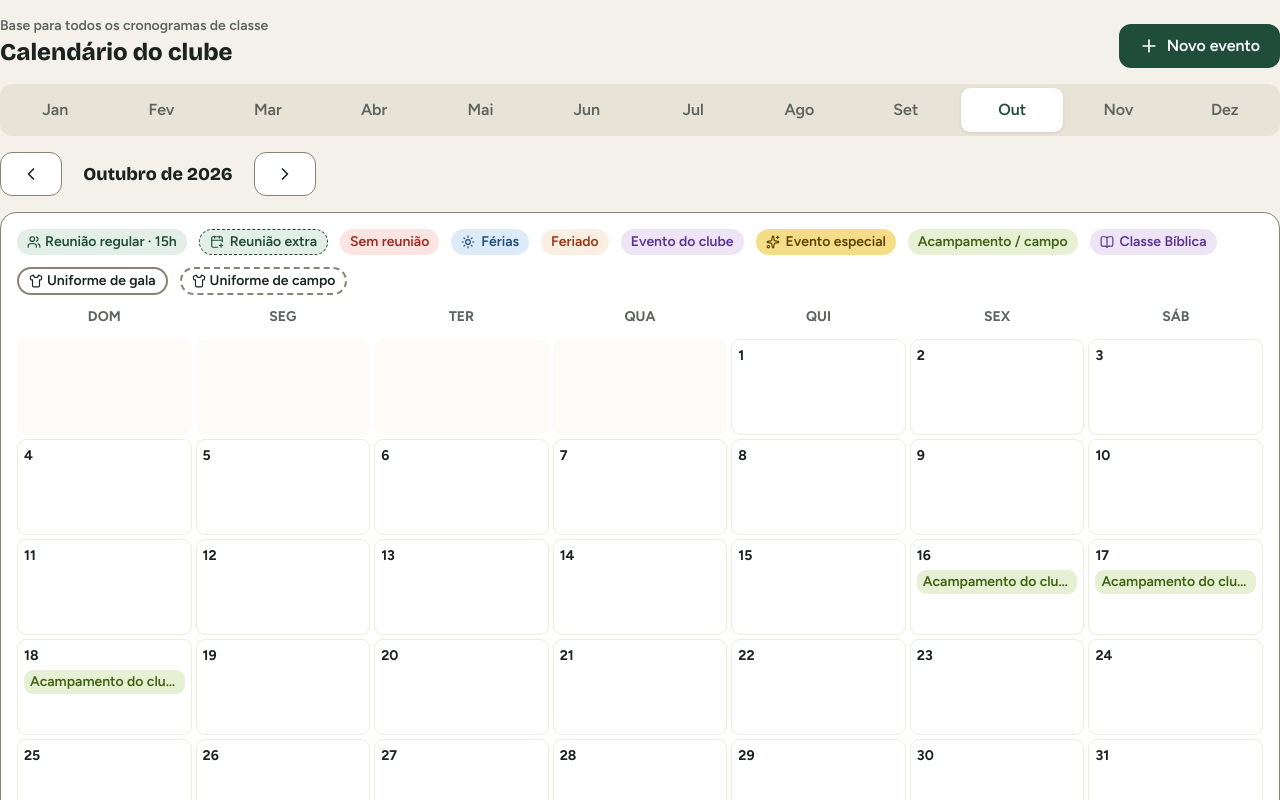
A6 · grade › as setas andam de mês em mês e viram o ano, pedindo o ano novo
Click the button named "Próximo mês" at (285, 174), box [254,152,316,196]
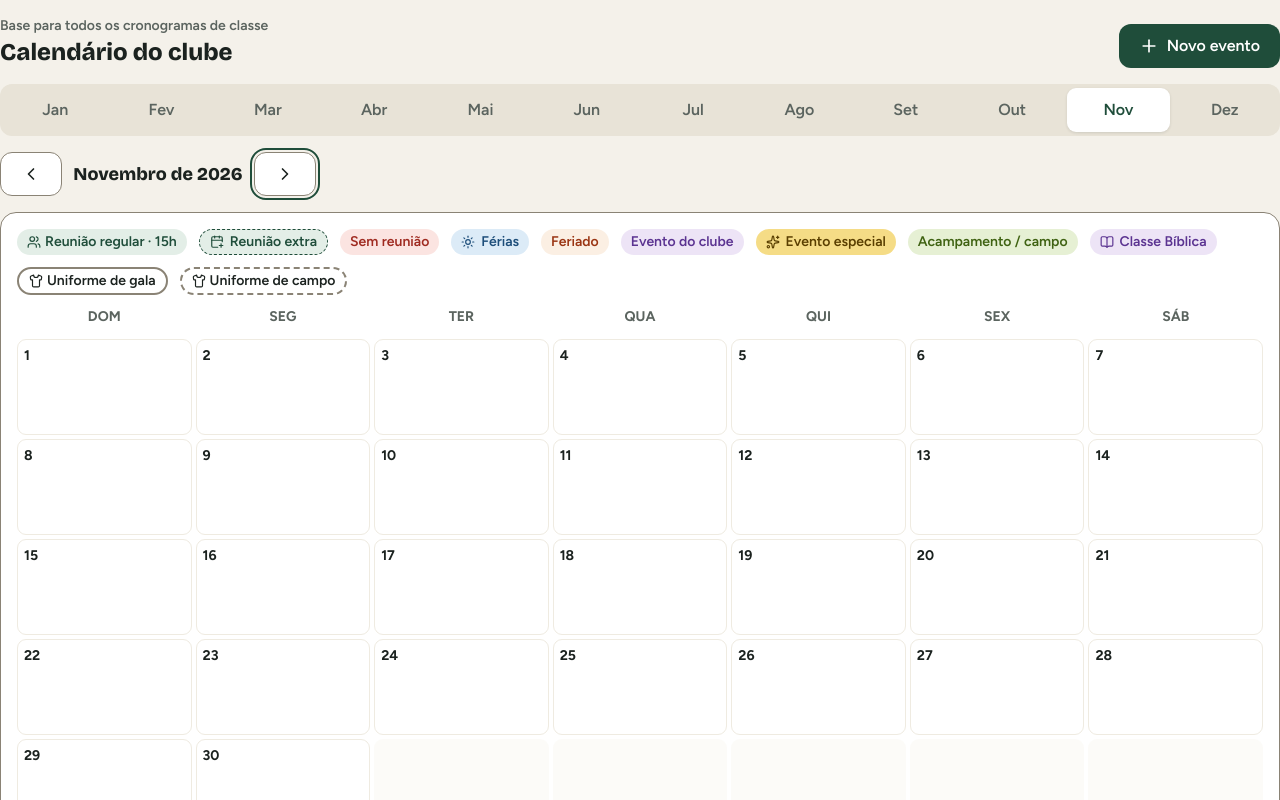
Check: the heading "Novembro de 2026" is shown, box [70,160,246,188]
Click the button named "Próximo mês" at (285, 174), box [254,152,316,196]
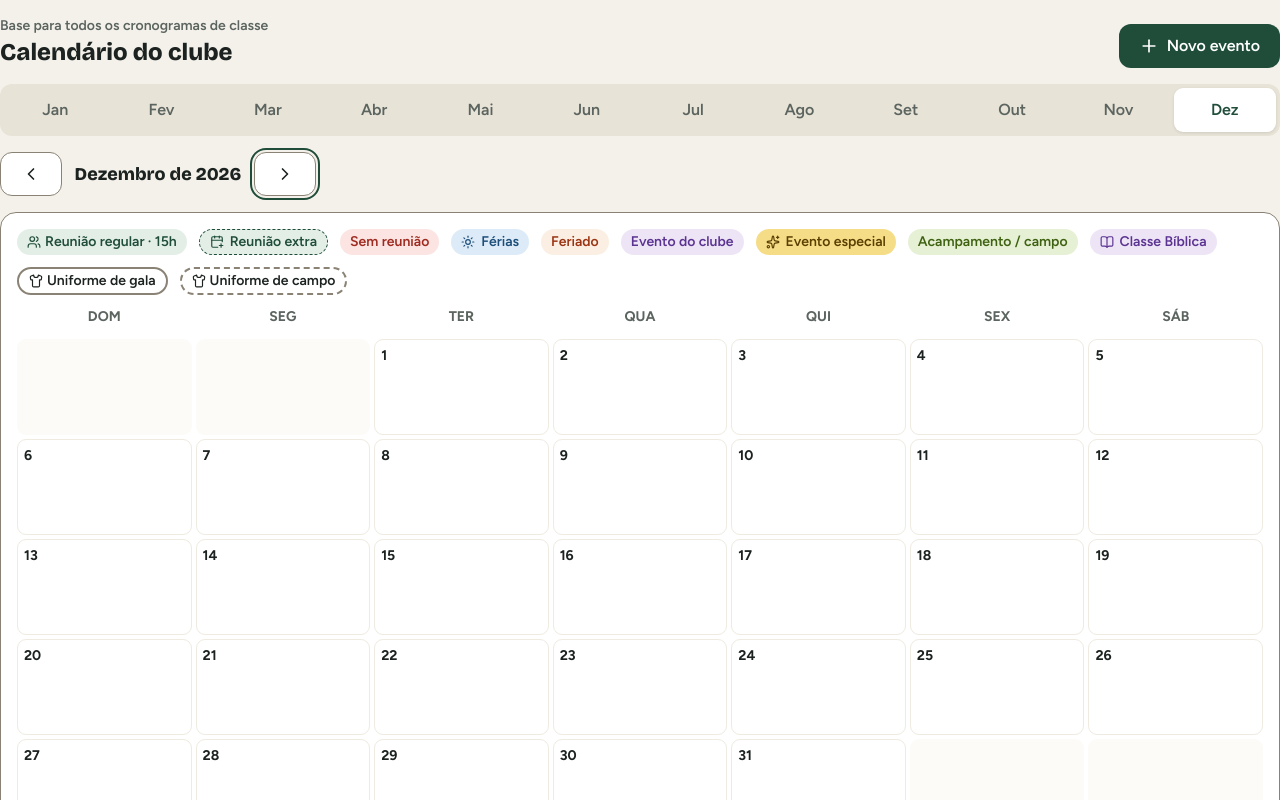
Click the button named "Próximo mês" at (285, 174), box [254,152,316,196]
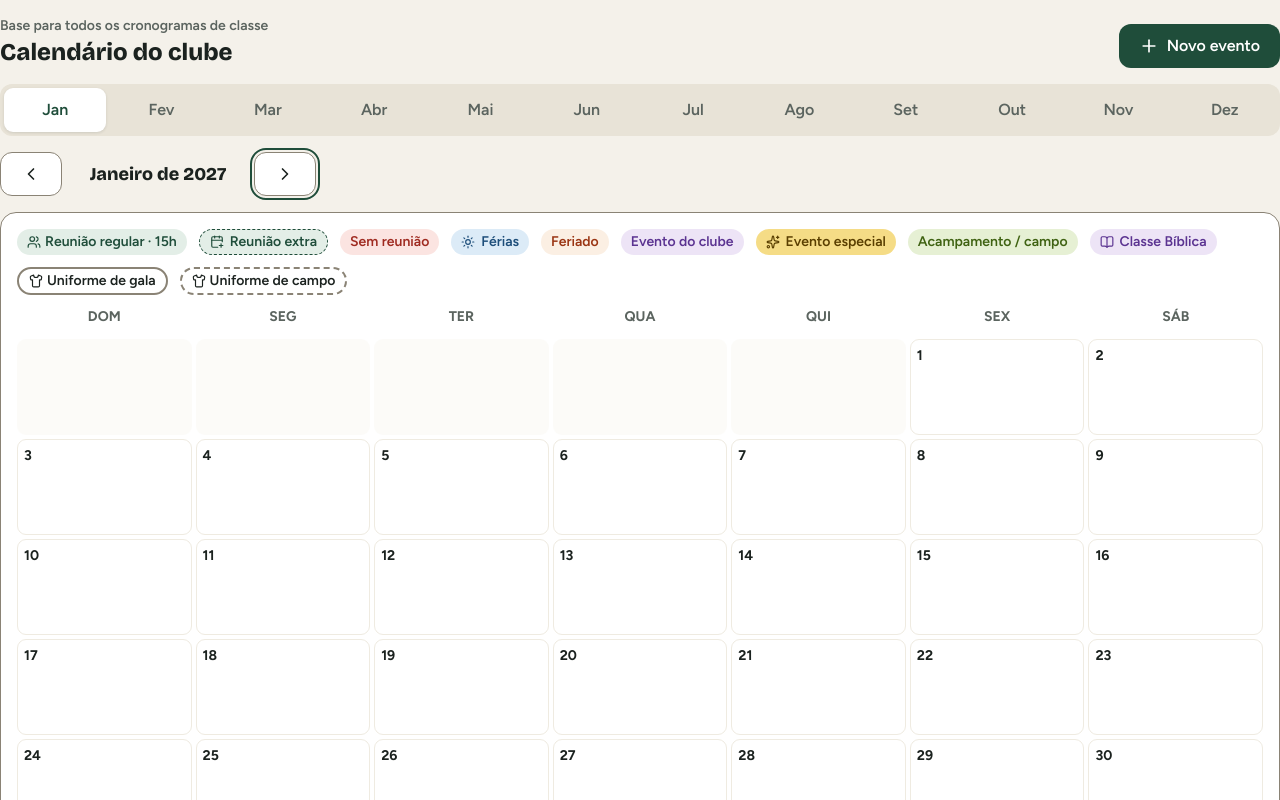
Check: the heading "Janeiro de 2027" is shown, box [90,163,226,185]
Click the button named "Mês anterior" at (31, 174), box [0,152,62,196]
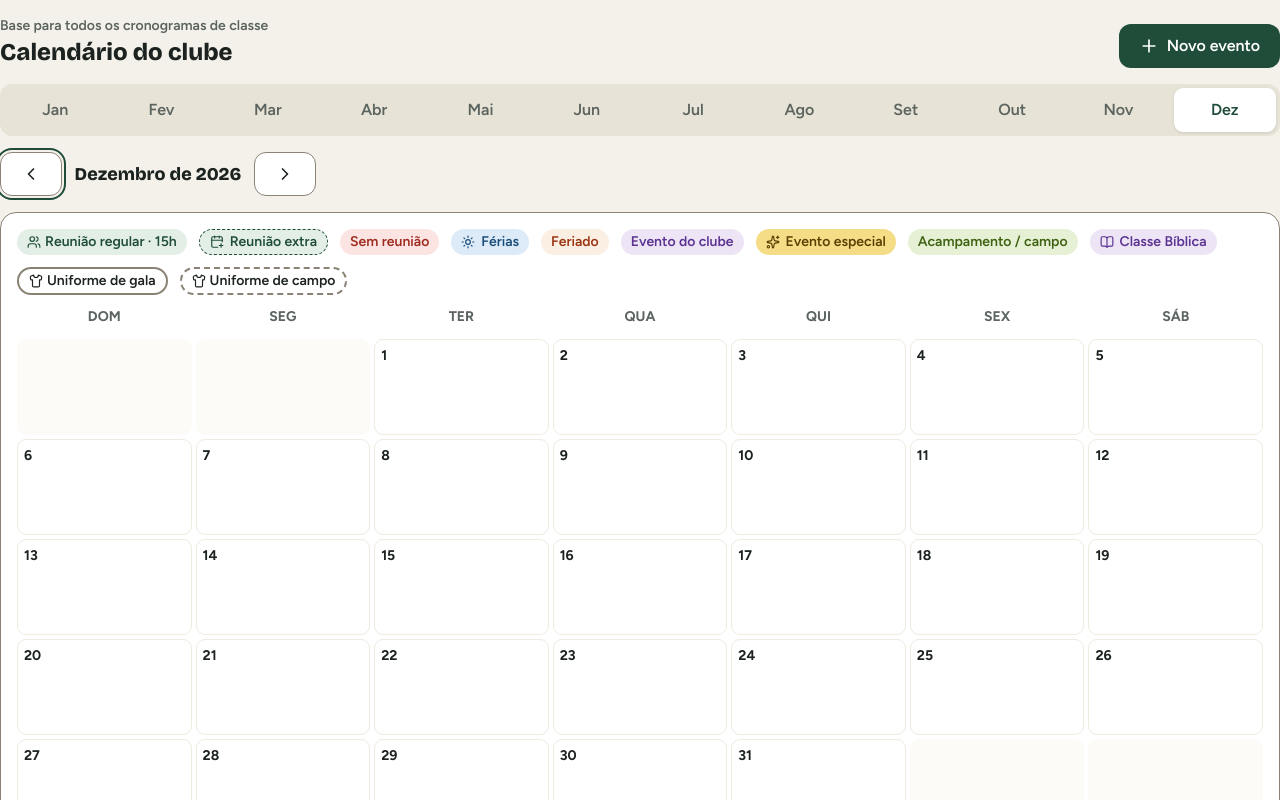
Check: the heading "Dezembro de 2026" is shown, box [70,160,246,188]
